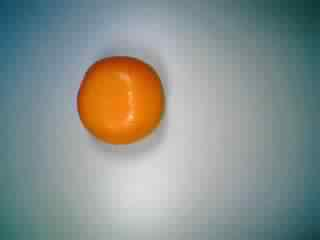orange: (71, 49, 168, 147)
